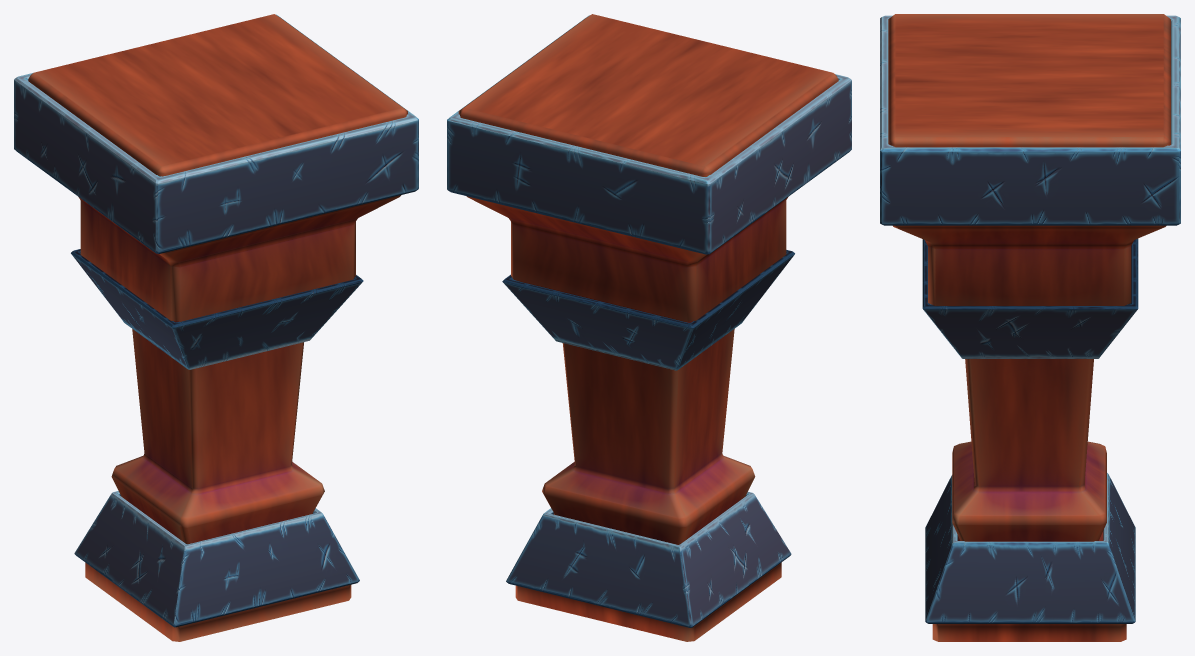
Rendered from barrel_columne_1.fbx.
The picture shows the model from 3 angles, left to right: view 1: azimuth 30°, elevation 25°; view 2: azimuth 150°, elevation 25°; view 3: azimuth 270°, elevation 25°; orthographic projection. The views are drawn at different scales.
Visible parts, largest first — view 1: l_leg.017, Cube.022, Cube.023, Cube.024; view 2: l_leg.017, Cube.022, Cube.023, Cube.024; view 3: l_leg.017, Cube.022, Cube.023, Cube.024.
Boxes of the visible parts, bbox=[...] form: l_leg.017: bbox=[28, 14, 407, 641]; Cube.022: bbox=[14, 14, 418, 253]; Cube.023: bbox=[74, 491, 359, 627]; Cube.024: bbox=[71, 249, 363, 369]; l_leg.017: bbox=[458, 14, 838, 641]; Cube.022: bbox=[447, 15, 851, 254]; Cube.023: bbox=[506, 491, 791, 627]; Cube.024: bbox=[502, 250, 794, 370]; l_leg.017: bbox=[888, 14, 1170, 641]; Cube.022: bbox=[880, 15, 1180, 225]; Cube.023: bbox=[925, 473, 1135, 623]; Cube.024: bbox=[922, 238, 1138, 358].
Size of the model in its own units: 575 by 1038 by 543.
